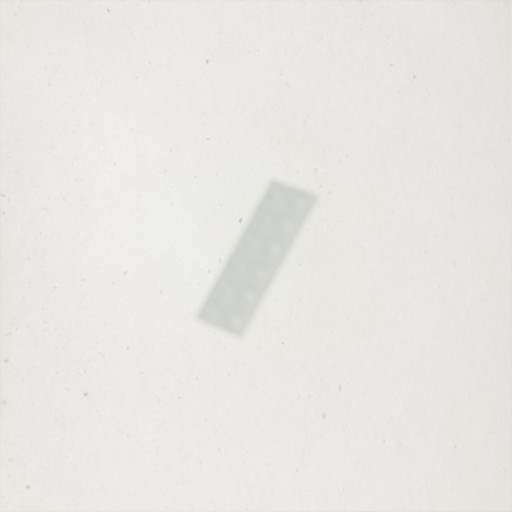lego: (194, 178, 320, 339)
